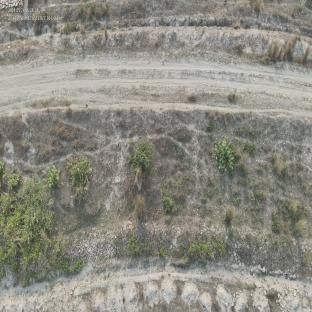rock_toe: (2, 221, 312, 285)
toe_drain: (54, 256, 312, 300)
vegetation: (0, 166, 82, 289), (67, 159, 91, 204), (215, 133, 238, 175), (126, 141, 153, 173)
